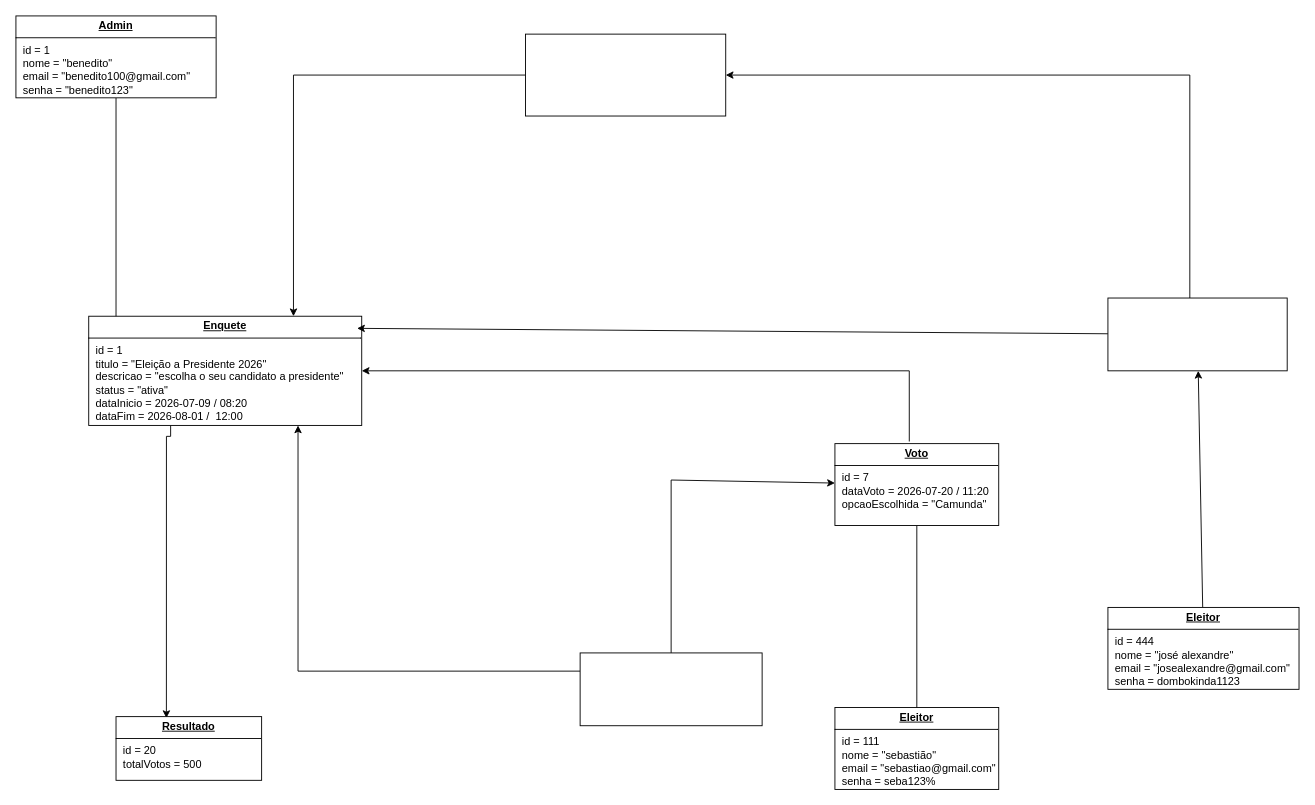
Some shapes in this 1315 by 805 pixel diagram are drawn without their labels. Each missing label, with the centre of its shape:
Opcao id = 13 descricao = "Camunda (Partido B)" quantidadeVotos = "200": the point at 625,74
Opcao id = 66 descricao = "Massocolo(Partido S)" quantidadeVotos = 300: the point at 670,689
Voto id = 1 dataVoto = 2026-07-10 / 10:00 opcaoEscolhida = "Massocolo": the point at 1197,334
